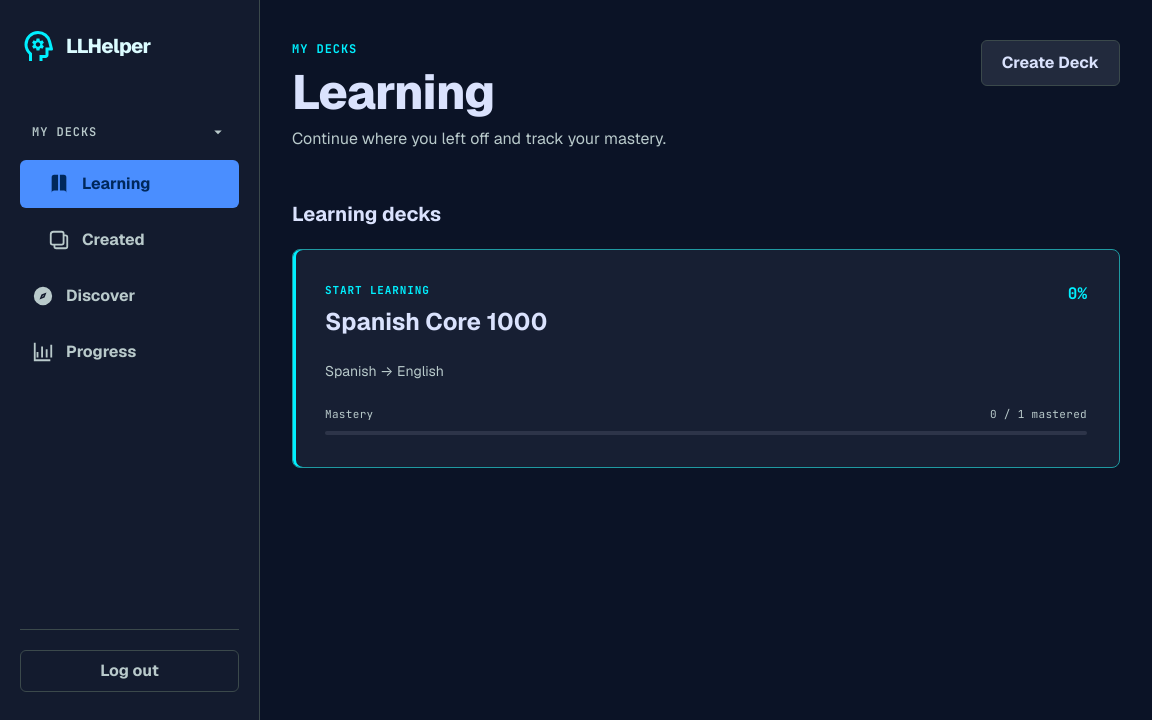
Test: router session boundaries › opens Study from the Learning list through deck details
Step 1. Click the link "Spanish Core 1000" → (706, 358), box left=292, top=249, right=1120, bottom=468
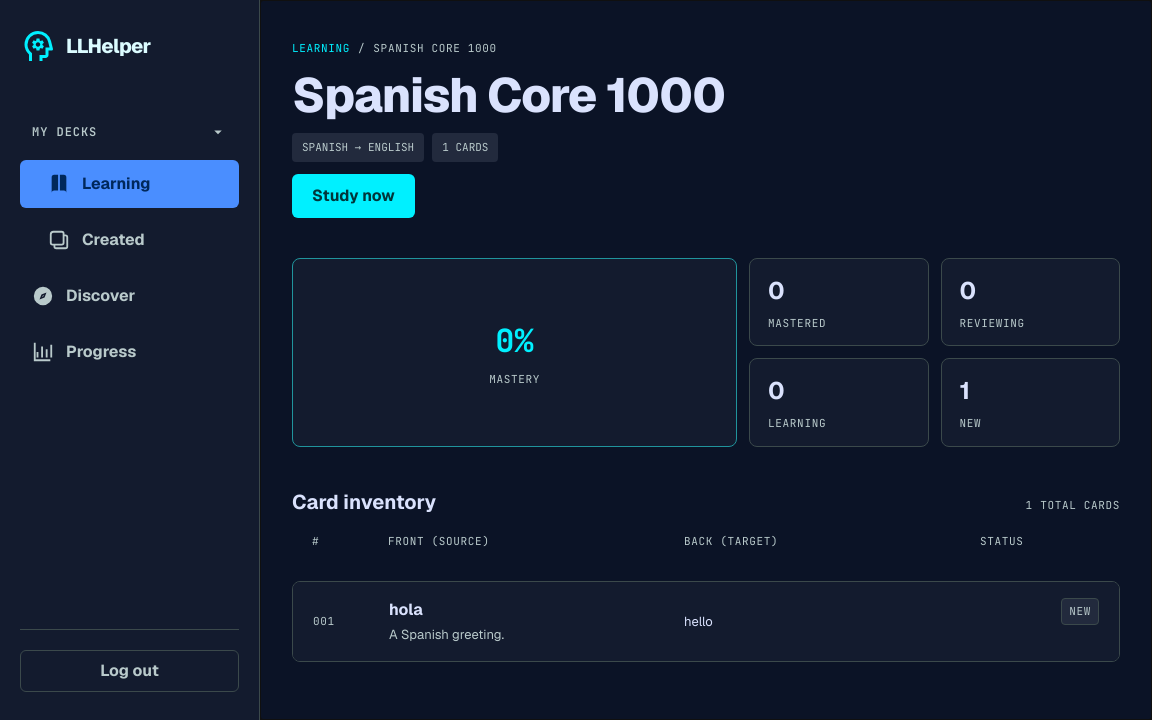
Step 2. Click the link "Study now" → (353, 196), box left=292, top=174, right=415, bottom=218
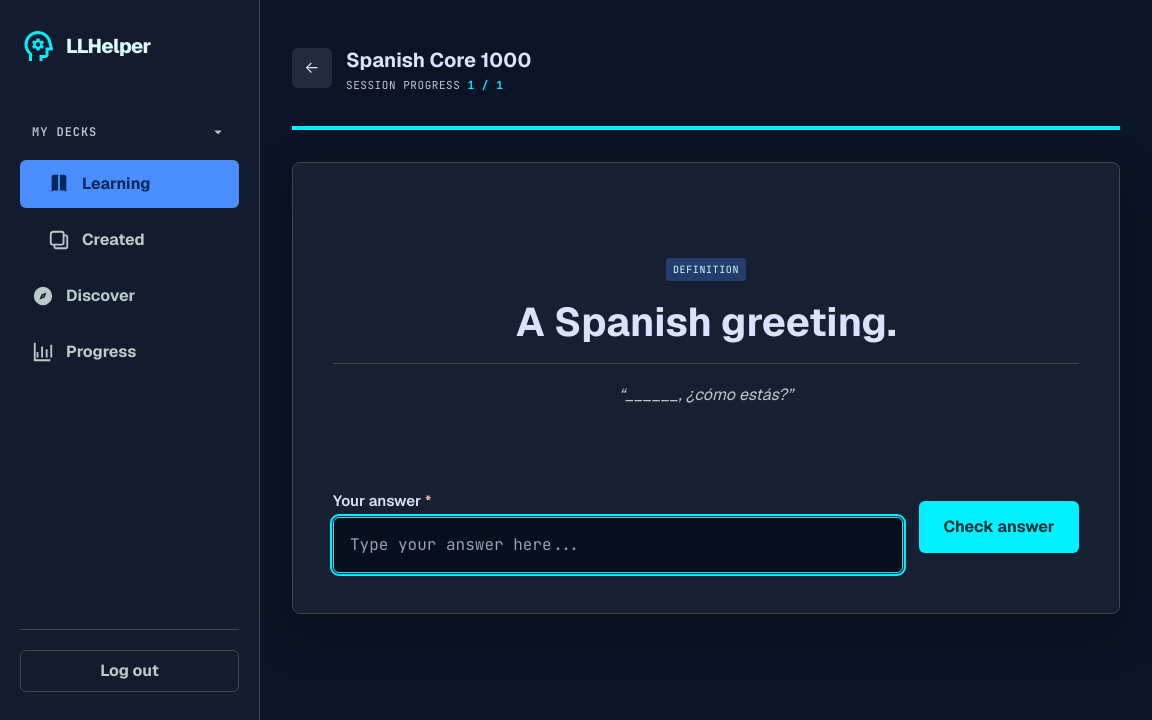
Expected: the field labelled "Your answer" is shown
Step 3. Type "hola" into the field labelled "Your answer" → (618, 545), box left=333, top=517, right=903, bottom=573
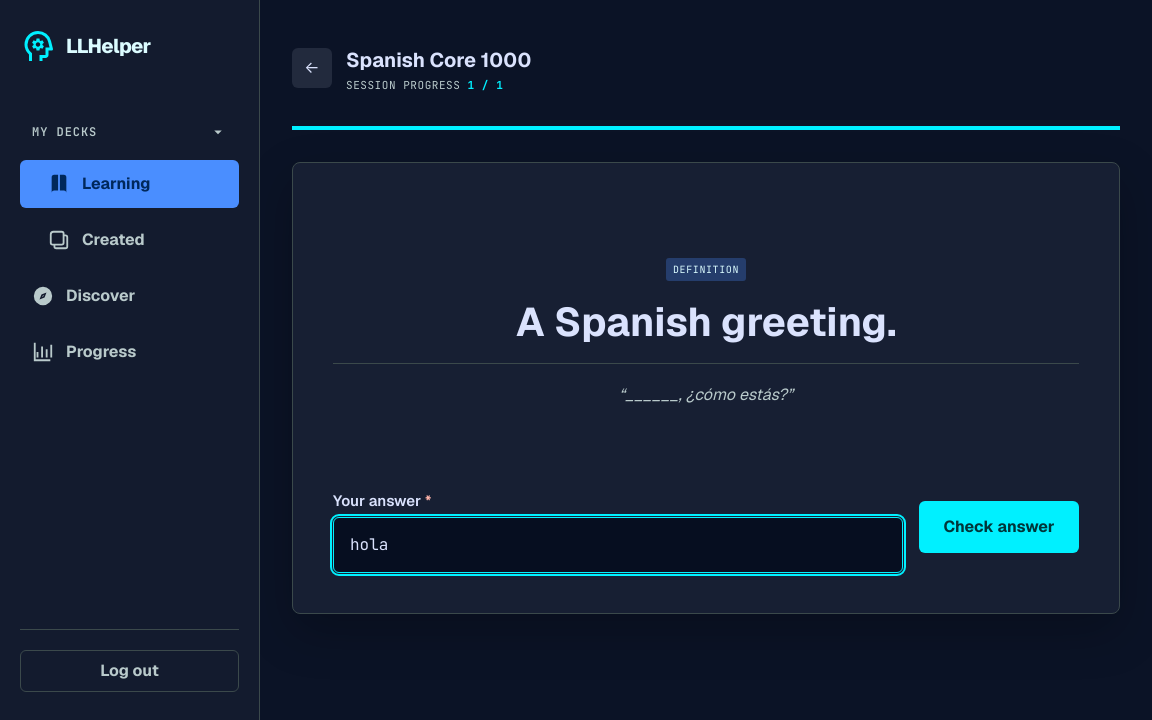
Step 4. Click the button "Check answer" → (999, 527), box left=919, top=501, right=1079, bottom=553
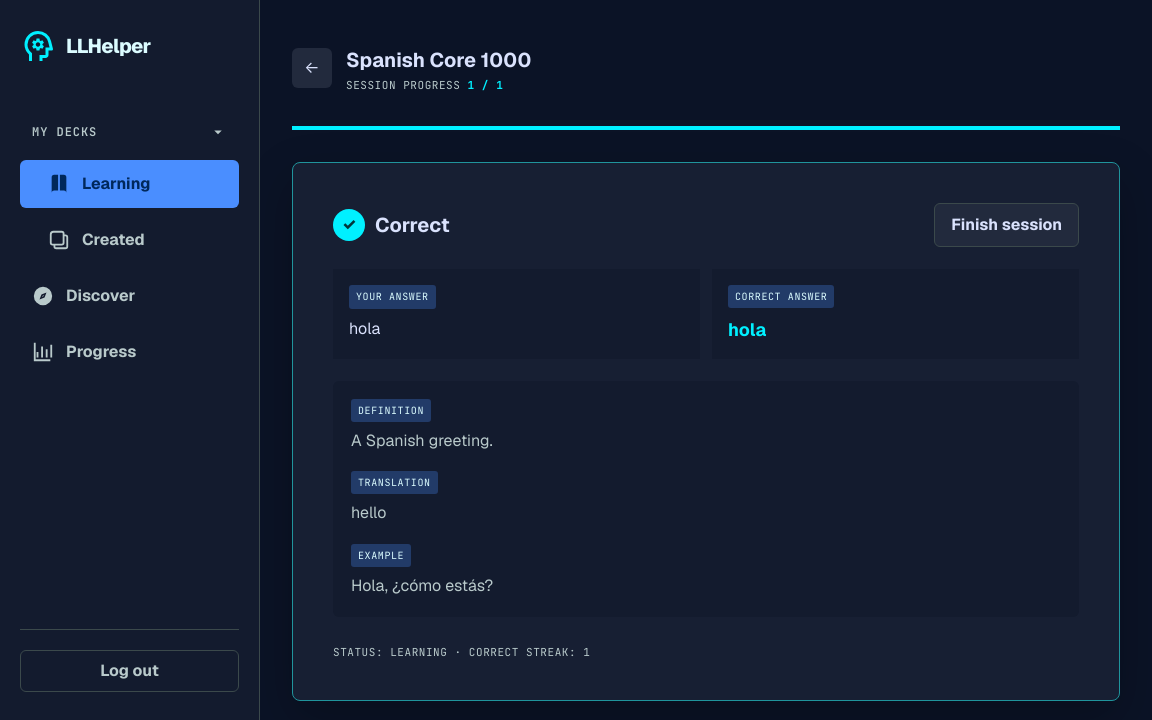
Expected: the heading "Correct" is shown, left=375, top=210, right=450, bottom=240
Expected: the text "Status: learning · Correct streak: 1" is shown, left=333, top=645, right=590, bottom=659
Step 5. Click the link named "Back to deck" → (312, 68), box left=292, top=48, right=332, bottom=88
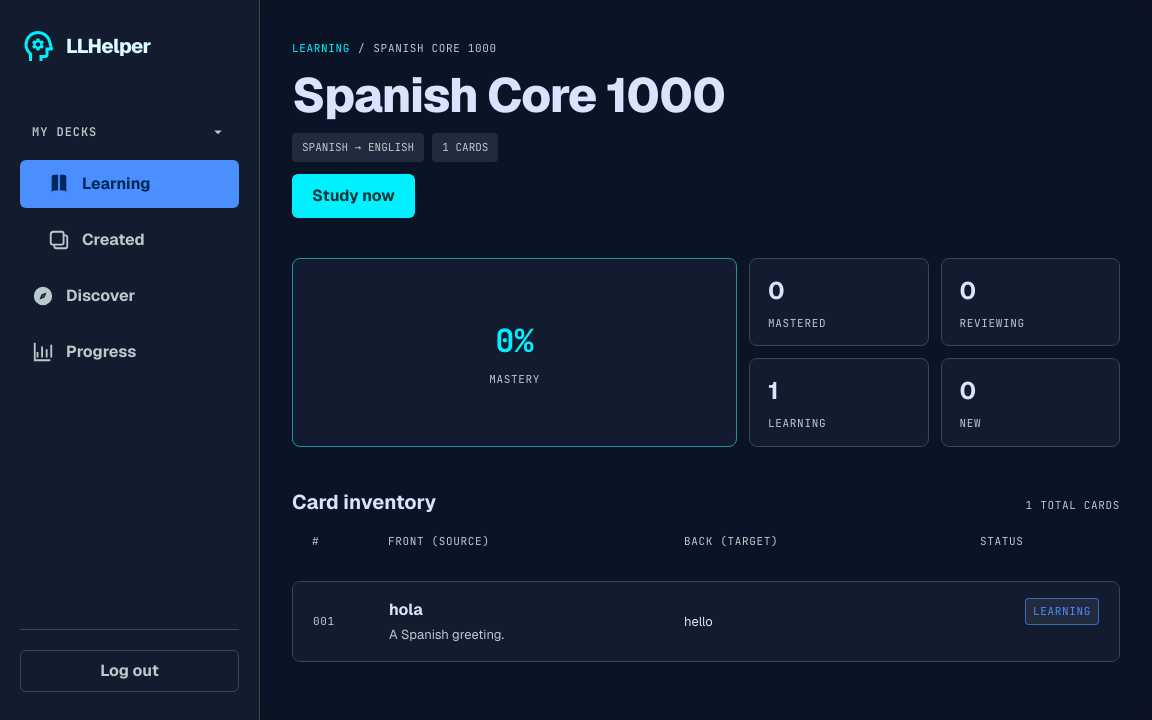
Expected: the text "Learning" in the row of "001" is shown, left=1033, top=604, right=1091, bottom=618
Step 6. Click the 1st link "Learning" → (321, 48), box left=292, top=40, right=350, bottom=56
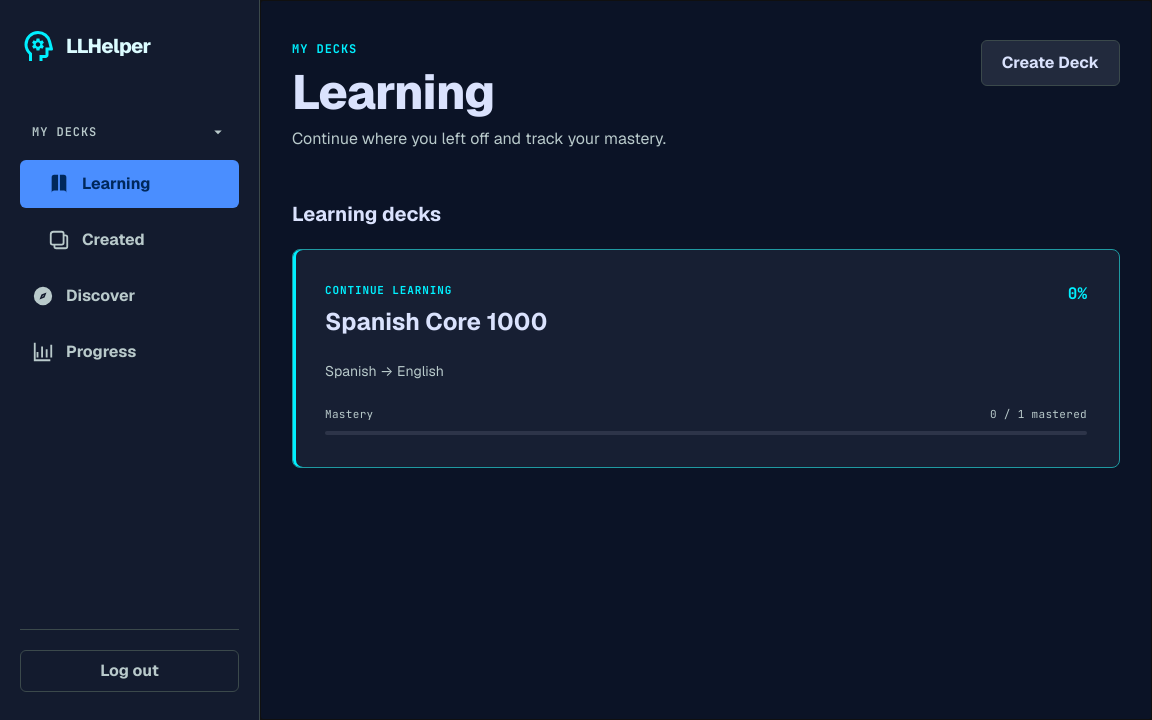
Expected: the text "Continue learning" is shown, left=325, top=283, right=452, bottom=297
Expected: the text "0 / 1 mastered" is shown, left=990, top=406, right=1087, bottom=423
